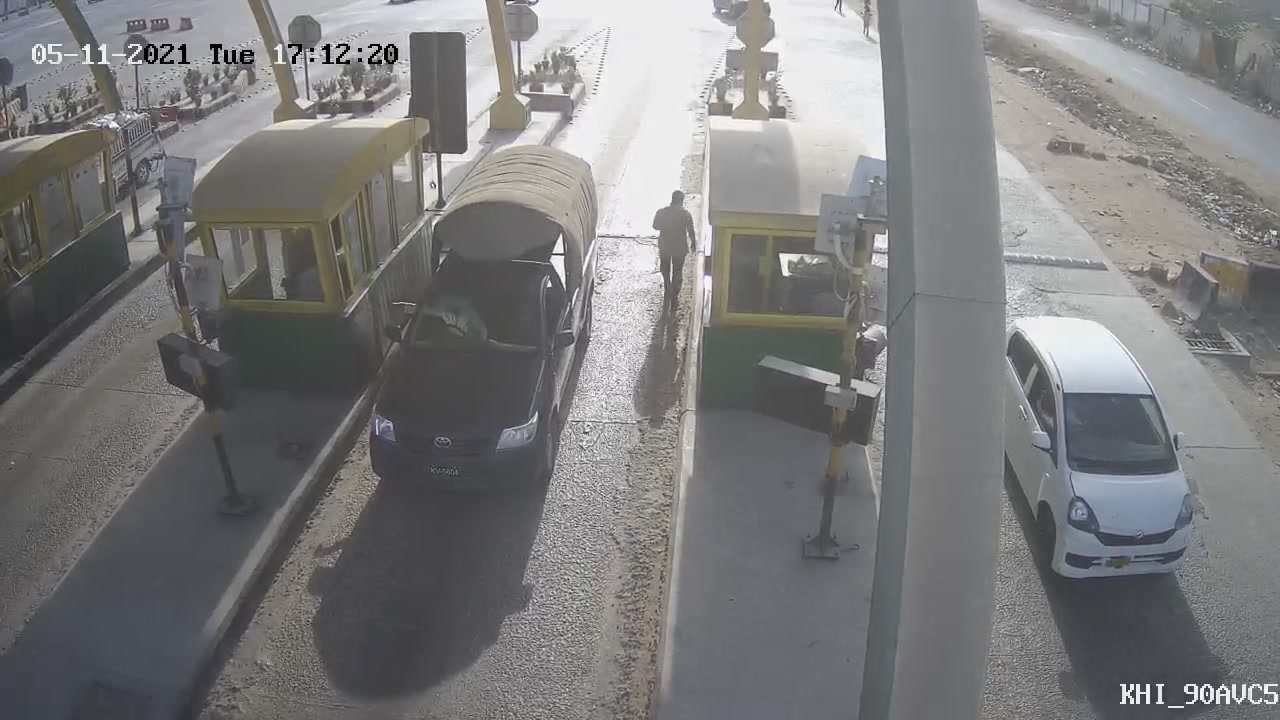F1: (347, 118, 626, 524)
